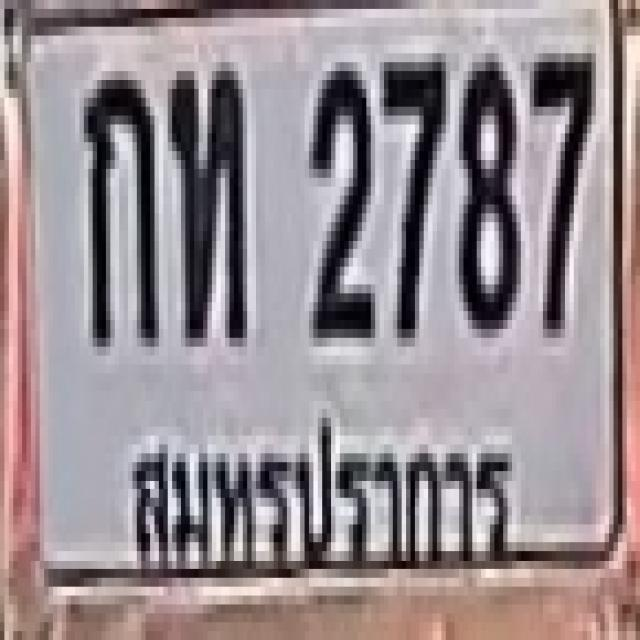-: (168, 62, 242, 338), (80, 67, 154, 342)
2: (304, 58, 370, 333)
7: (530, 44, 592, 329), (379, 53, 442, 329)
8: (454, 53, 516, 329)
SPK: (116, 394, 526, 608)
